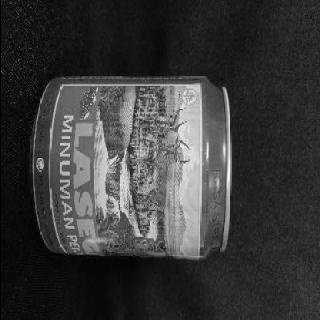alumunium_can: (28, 76, 230, 262)
